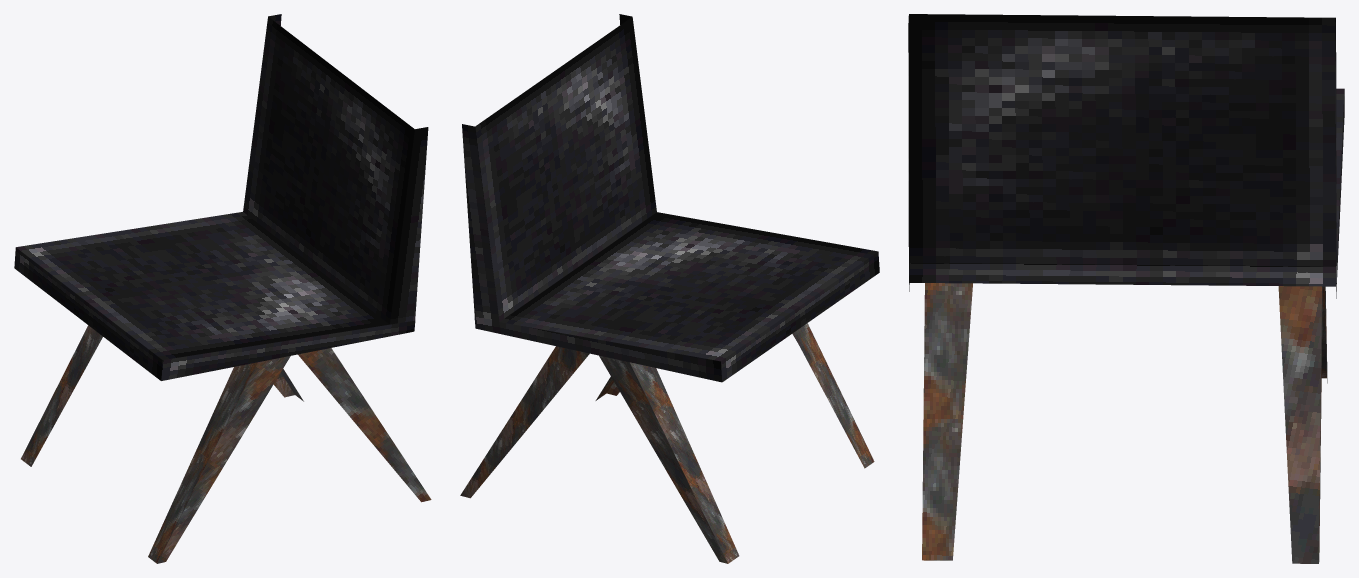
File: frigate_black_chair_1.glb
3 renders of one model, left to right at view 1: azimuth 30°, elevation 25°; view 2: azimuth 150°, elevation 25°; view 3: azimuth 270°, elevation 25°, orthographic. The views are drawn at different scales.
Parts seen in each view (by area): view 1: Object; view 2: Object; view 3: Object.
Boxes of the visible parts, x1,y1,x2,y2 form: Object: [14, 14, 431, 563]; Object: [460, 14, 879, 563]; Object: [908, 14, 1344, 563].
Bounding box in the file's own units: 0.8841 × 1.16 × 0.859.
2 materials, 2 textured.
